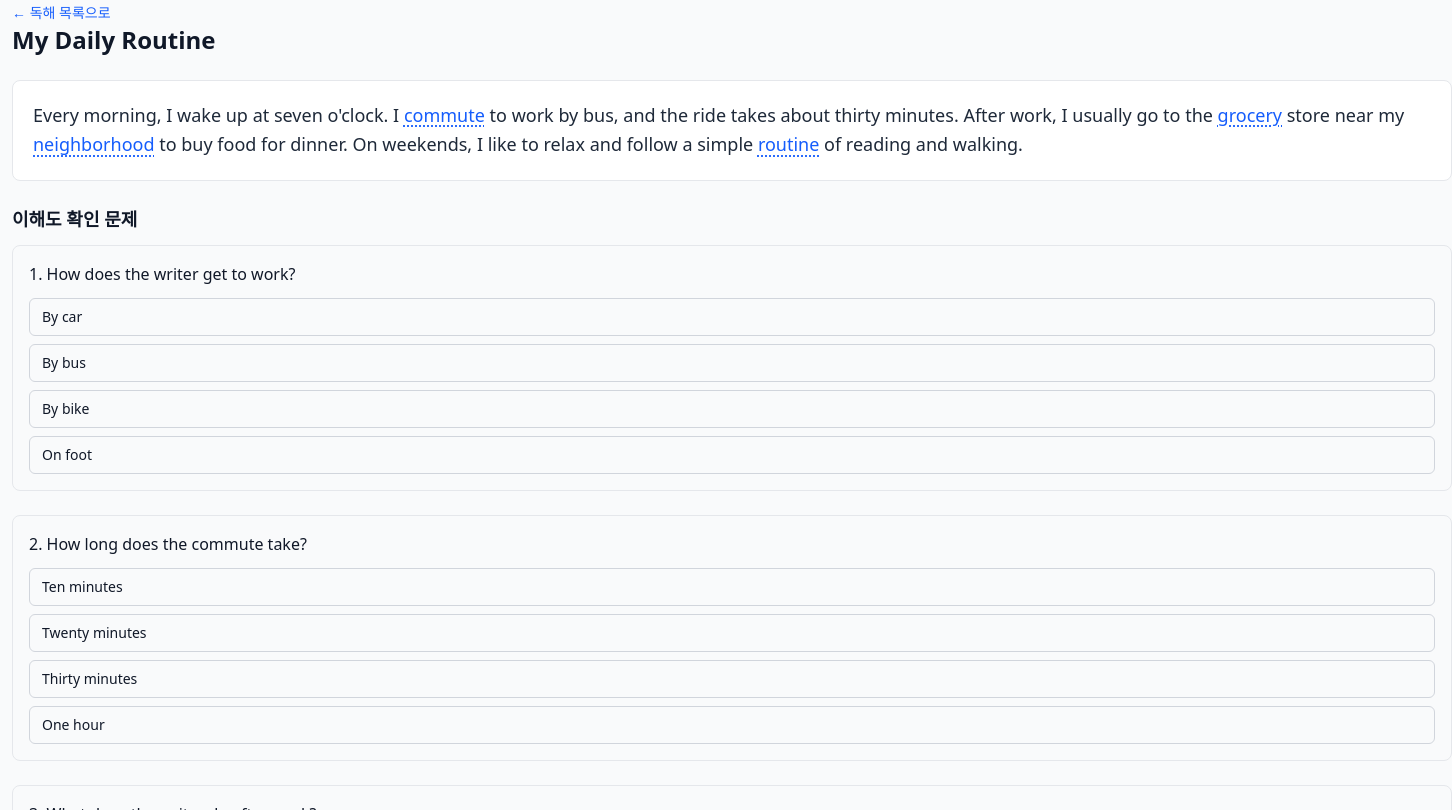
Test case: ReadingPassagePage › 이해도 문제를 모두 맞히면 결과가 표시된다
Expected: the heading "My Daily Routine" is shown, x1=12 y1=23 x2=216 y2=56
What coordinates should you click on to do the following:
click the button "By bus"
I would click on:
 (64, 362)
Its box is x1=29 y1=344 x2=1435 y2=382.
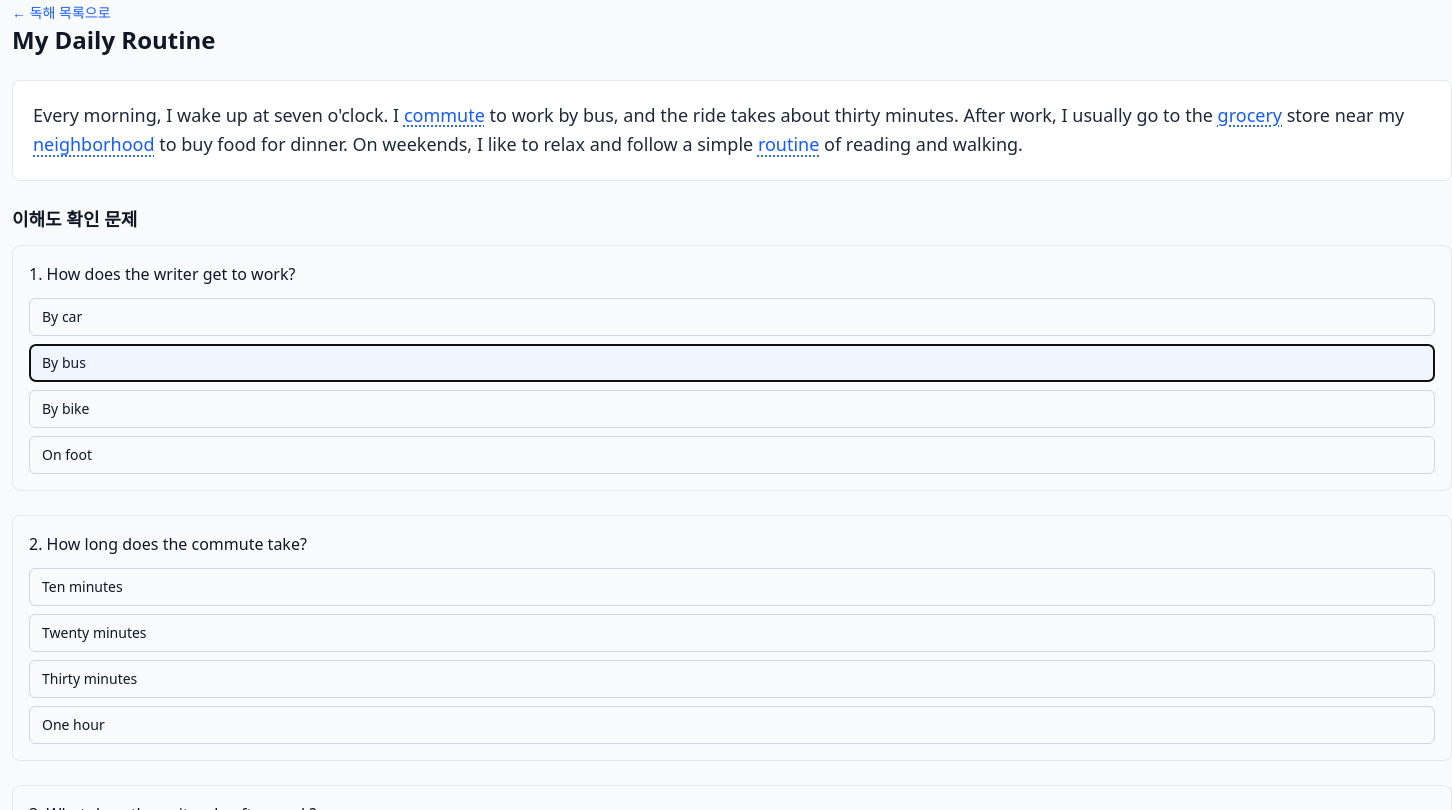
What coordinates should you click on to do the following:
click the button "Thirty minutes"
I would click on:
 (90, 678)
Its box is x1=29 y1=660 x2=1435 y2=698.
(page scrolled)
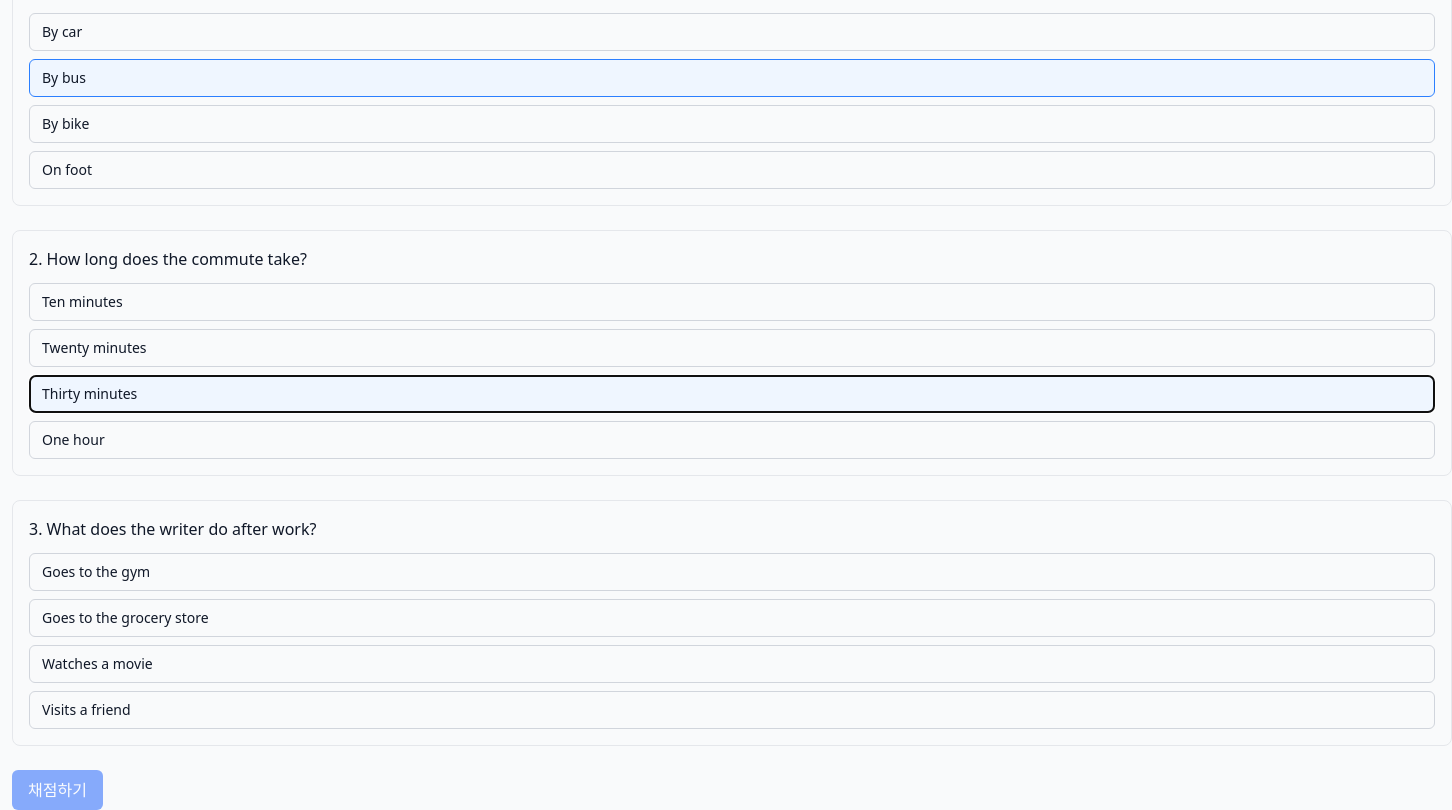
What coordinates should you click on to do the following:
click the button "Goes to the grocery store"
I would click on:
 (125, 617)
Its box is x1=29 y1=598 x2=1435 y2=636.
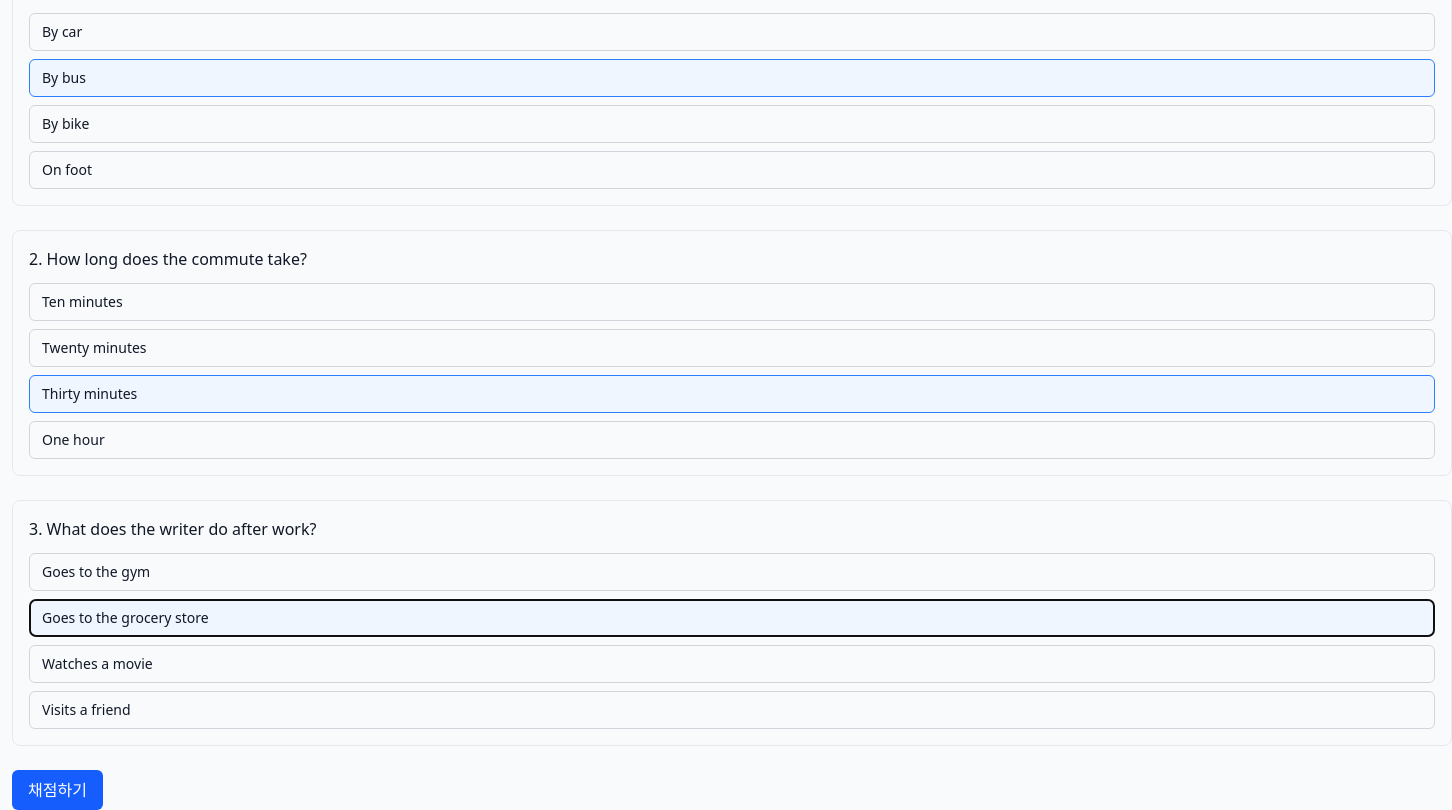
What coordinates should you click on to do the following:
click the button "채점하기"
I would click on:
 (57, 790)
Its box is x1=12 y1=770 x2=103 y2=809.
(page scrolled)
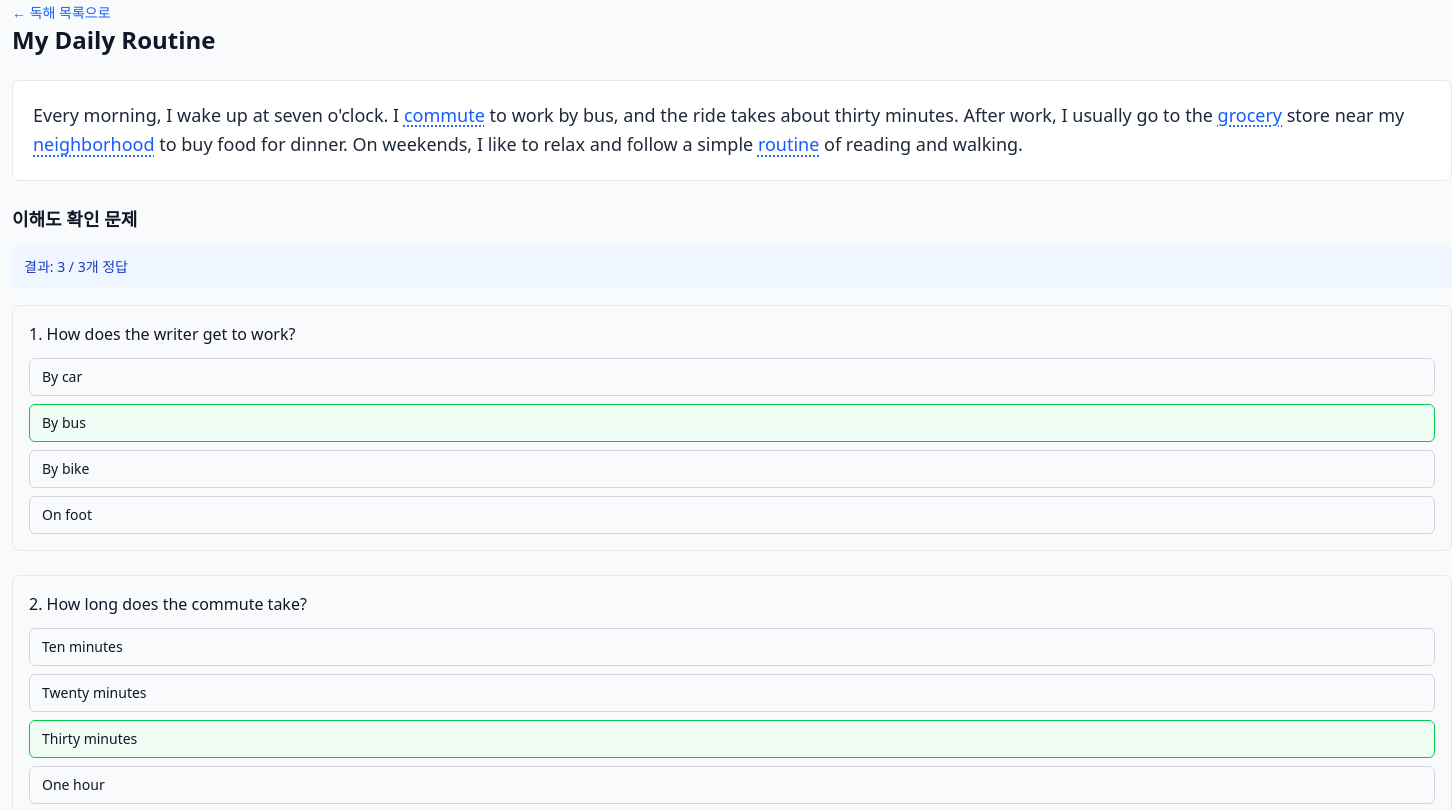
Expected: the text "결과: 3 / 3개 정답" is shown, x1=12 y1=244 x2=1451 y2=288
